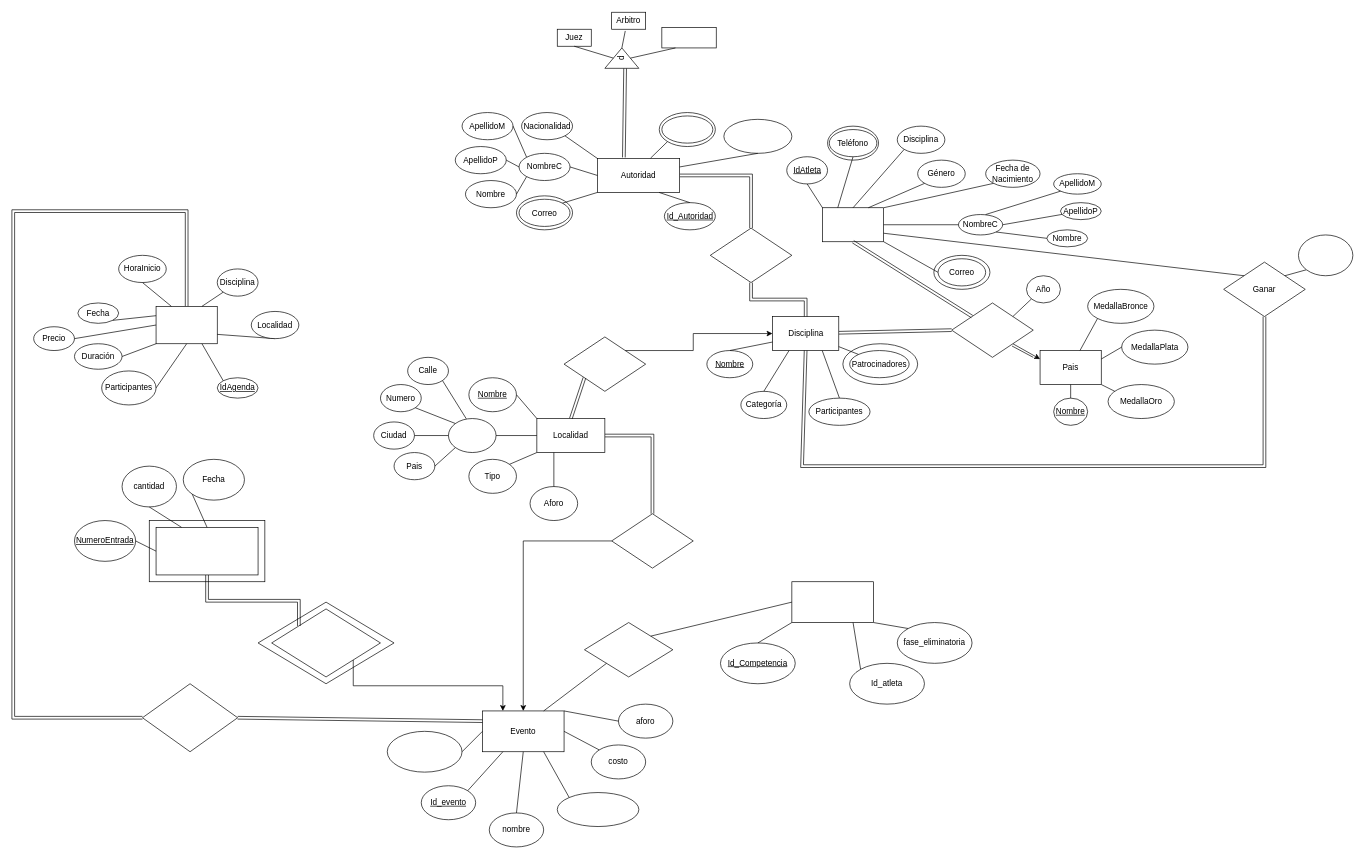
The diagram is 1365 pixels wide and 859 high, and some of its shapes have lost their labels. Here are the shapes that lost their labels. From the top down, the centre of each, then its label:
point (688, 37): Entrenador
point (687, 129): Telefono
point (757, 136): FechaNacimiento
point (853, 224): Atleta
point (751, 255): Supervisar
point (1325, 255): Medalla
point (186, 325): Agenda
point (992, 329): Representar
point (604, 363): Contener
point (472, 435): Dirección
point (206, 551): Entrada
point (652, 540): Asignar
point (832, 602): Competencia
point (325, 642): Vender
point (628, 649): Incluir
point (190, 717): Registrar
point (424, 751): Porcentaje de Incremento
point (598, 809): faseEliminatoria
